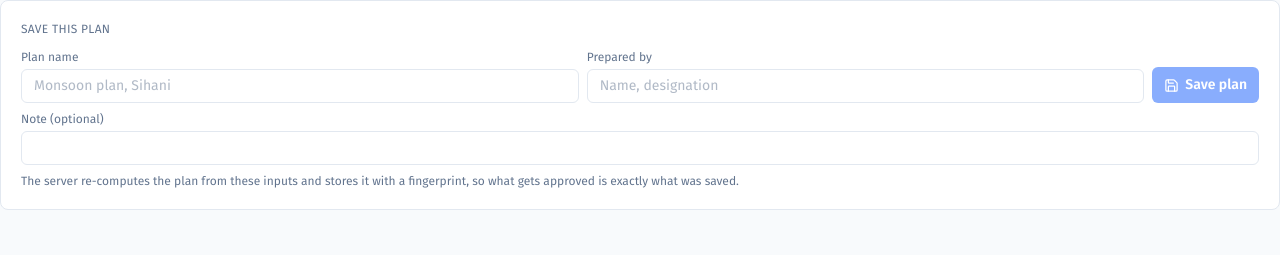
SavePlanForm › saves the plan for the exact inputs on screen, with the live alerts behind them
The width and height of the screenshot is (1280, 255).
In the field labelled "Plan name": (300, 86) left=21, top=69, right=579, bottom=103, type "Monsoon plan"
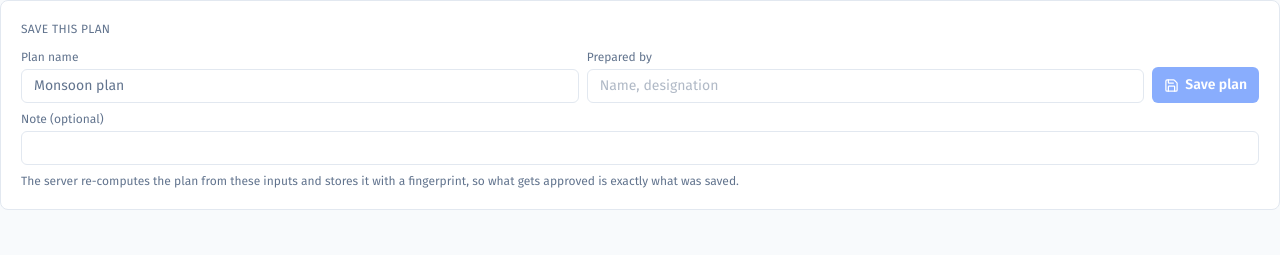
In the field labelled "Prepared by": (866, 86) left=587, top=69, right=1144, bottom=103, type "A. Planner"
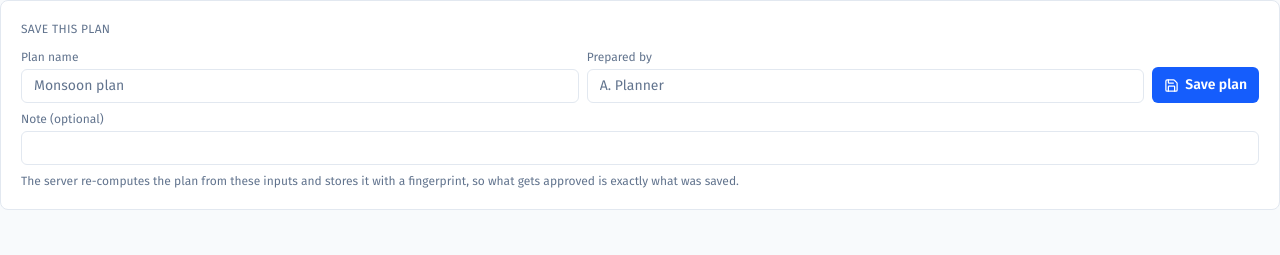
Click the button "Save plan": (1206, 85) left=1152, top=67, right=1259, bottom=103
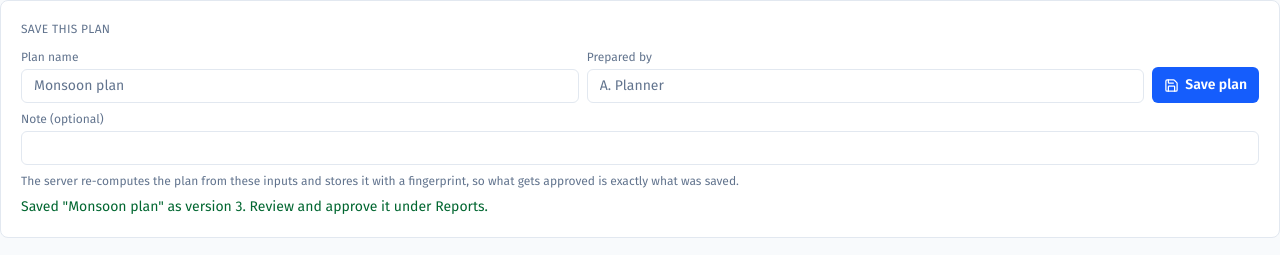
Expected: the text "Saved \"Monsoon plan\" as version 3. Review and approve it under Reports." is shown, left=21, top=198, right=488, bottom=215
